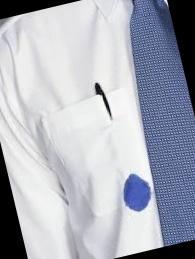ink: (118, 171, 154, 215)
